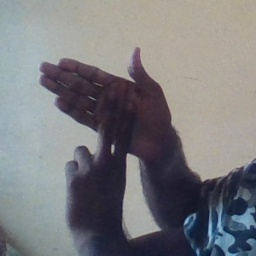N: (34, 43, 170, 196)
